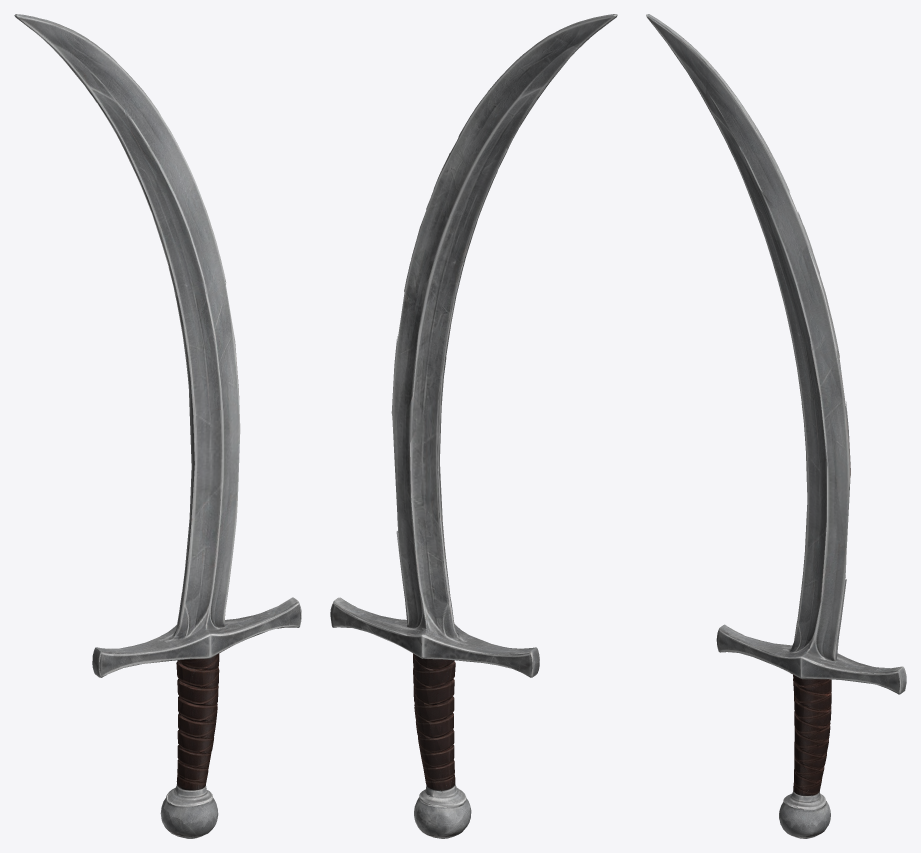
File: sword-plain-cleaver.glb
The picture shows the model from 3 angles, left to right: view 1: azimuth 30°, elevation 25°; view 2: azimuth 150°, elevation 25°; view 3: azimuth 330°, elevation 25°; orthographic projection. The views are drawn at different scales.
Parts seen in each view (by area): view 1: output_unwrapped; view 2: output_unwrapped; view 3: output_unwrapped.
Boxes of the visible parts, x1=… form: output_unwrapped: x1=14, y1=14, x2=301, y2=838; output_unwrapped: x1=330, y1=14, x2=617, y2=838; output_unwrapped: x1=646, y1=14, x2=906, y2=838.
Bounding box in the file's own units: 0.6554 × 1.9 × 0.117.
Materials: 1 (1 with a texture image).
